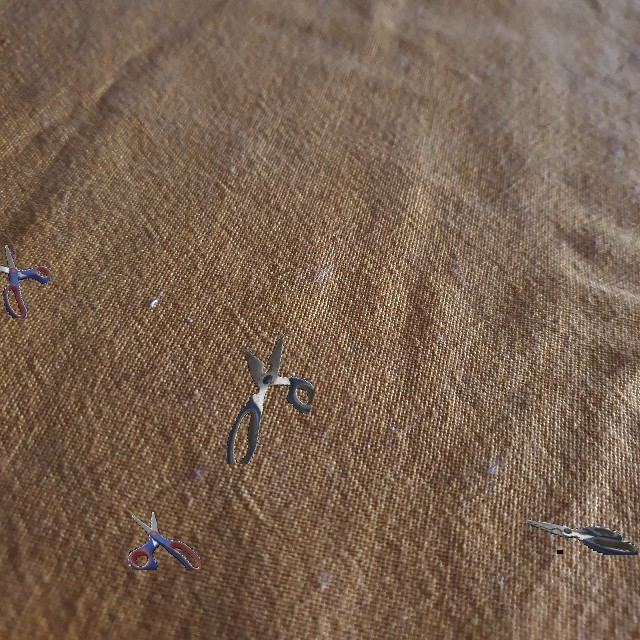scissors: (227, 334, 314, 464), (128, 512, 201, 570), (527, 519, 638, 555), (0, 244, 51, 318)
